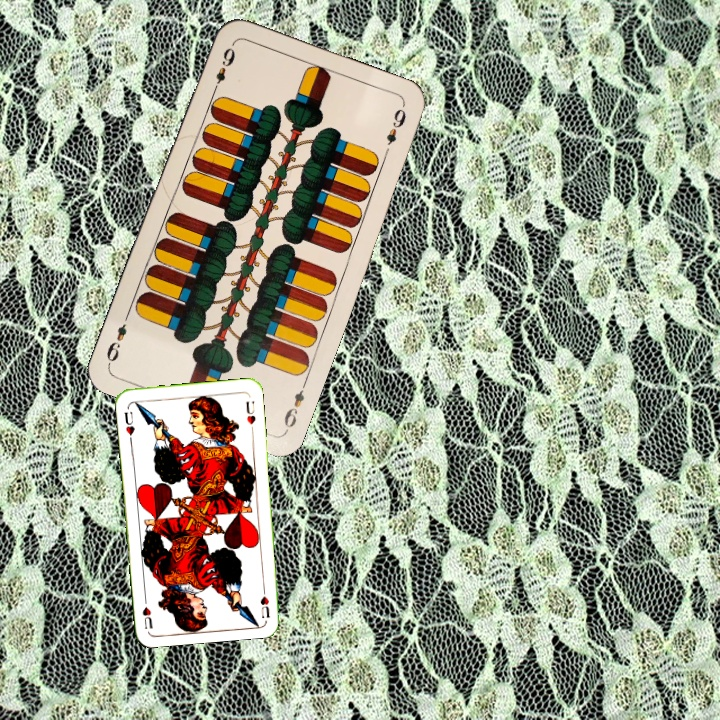E9: (280, 377, 310, 434), (208, 43, 238, 97)
HU: (256, 581, 272, 621), (120, 407, 137, 444)
